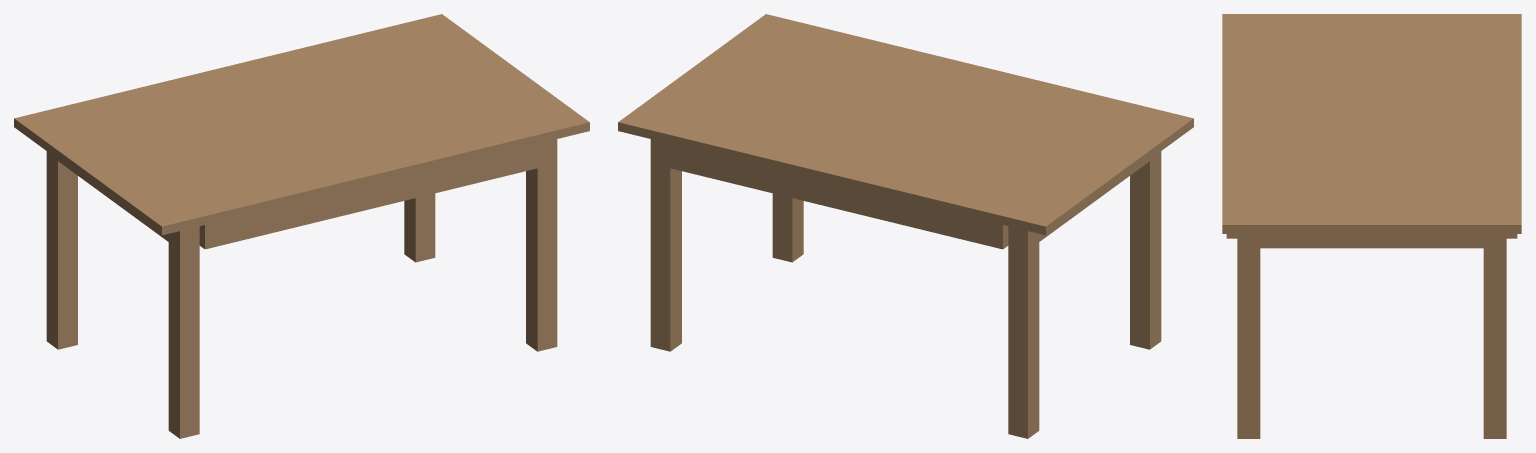
Rendered from Demo.glb.
3 views of the same model, side by side, from view 1: azimuth 30°, elevation 25°; view 2: azimuth 150°, elevation 25°; view 3: azimuth 270°, elevation 25° (orthographic).
Parts seen in each view (by area): view 1: top, apron.long_1, leg_1, leg_2, leg_3, leg_4; view 2: top, apron.long_2, leg_3, leg_4, leg_1, leg_2; view 3: top, leg_2, leg_4, apron.short_2.
Part boxes in pixels (x1,y1,x2,y2): top: (14, 14, 589, 235); apron.long_1: (199, 142, 542, 249); leg_1: (168, 226, 199, 438); leg_2: (526, 139, 557, 351); leg_3: (46, 151, 77, 349); leg_4: (404, 193, 435, 262); top: (618, 14, 1193, 235); apron.long_2: (665, 142, 1008, 249); leg_3: (1008, 226, 1039, 438); leg_4: (650, 139, 681, 351); leg_1: (1130, 151, 1161, 349); leg_2: (772, 193, 803, 262); top: (1222, 14, 1521, 233); leg_2: (1237, 234, 1260, 438); leg_4: (1483, 234, 1506, 438); apron.short_2: (1260, 234, 1483, 248).
Size of the model in its own units: 1.52 by 0.76 by 0.91.
